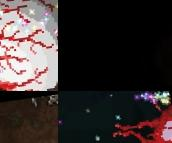eyeC: (0, 0, 58, 91), (99, 91, 172, 143)
